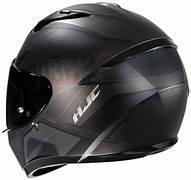Helmet: (2, 1, 189, 177)
